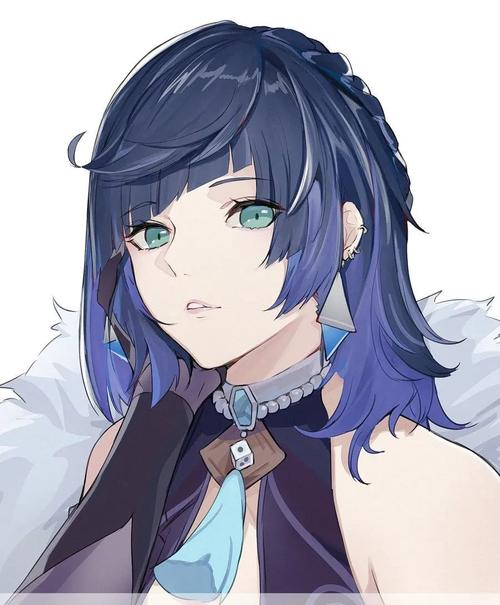夜兰: (6, 23, 500, 605)
